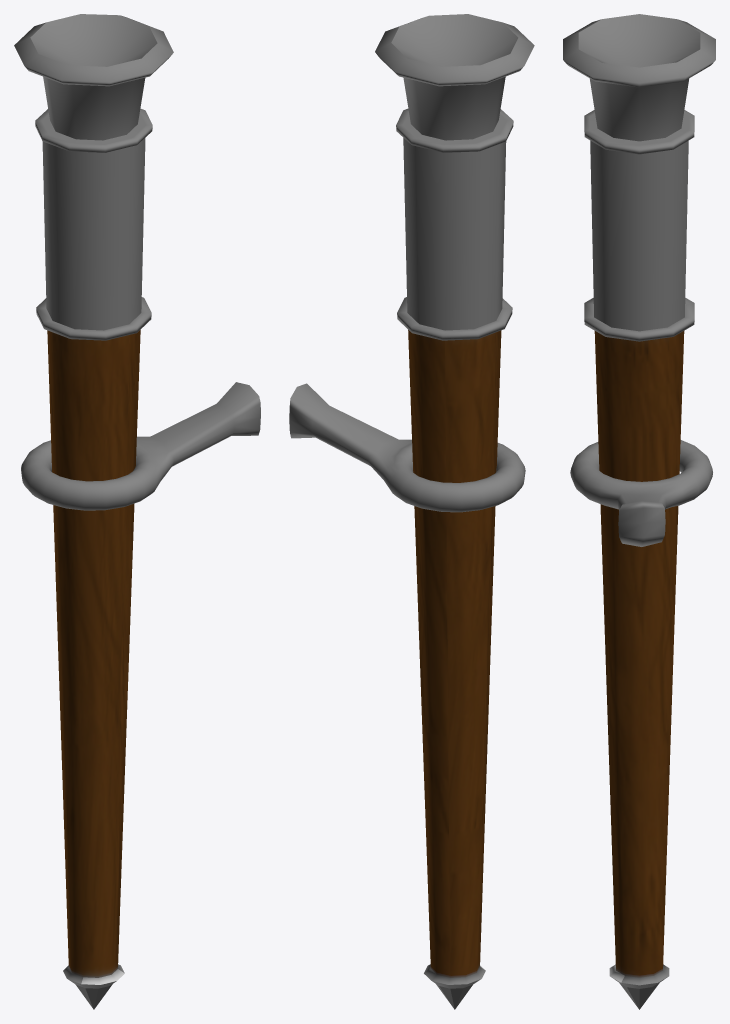
File: torch2.obj
The picture shows the model from 3 angles, left to right: view 1: azimuth 30°, elevation 25°; view 2: azimuth 150°, elevation 25°; view 3: azimuth 270°, elevation 25°; orthographic projection.
Visible parts, largest first — view 1: pCone2; view 2: pCone2; view 3: pCone2.
Part boxes in pixels (bbox=[...]): pCone2: bbox=[14, 14, 260, 1009]; pCone2: bbox=[289, 14, 534, 1009]; pCone2: bbox=[563, 14, 715, 1009].
Size of the model in its own units: 0.3911 by 1.6 by 0.2287.
